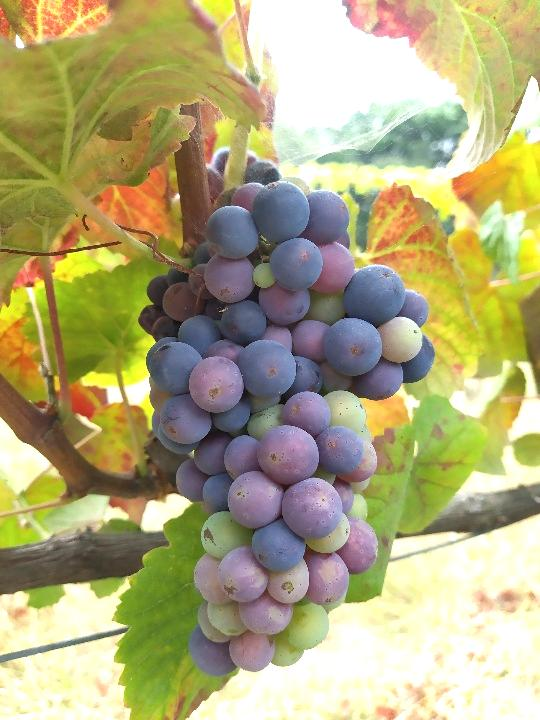grape: (135, 172, 438, 680)
